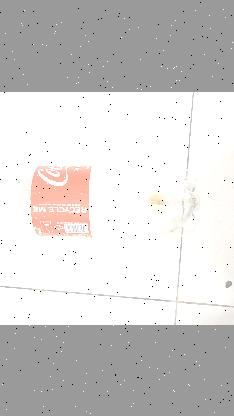Plastic Bottle: (0, 165, 197, 237)
